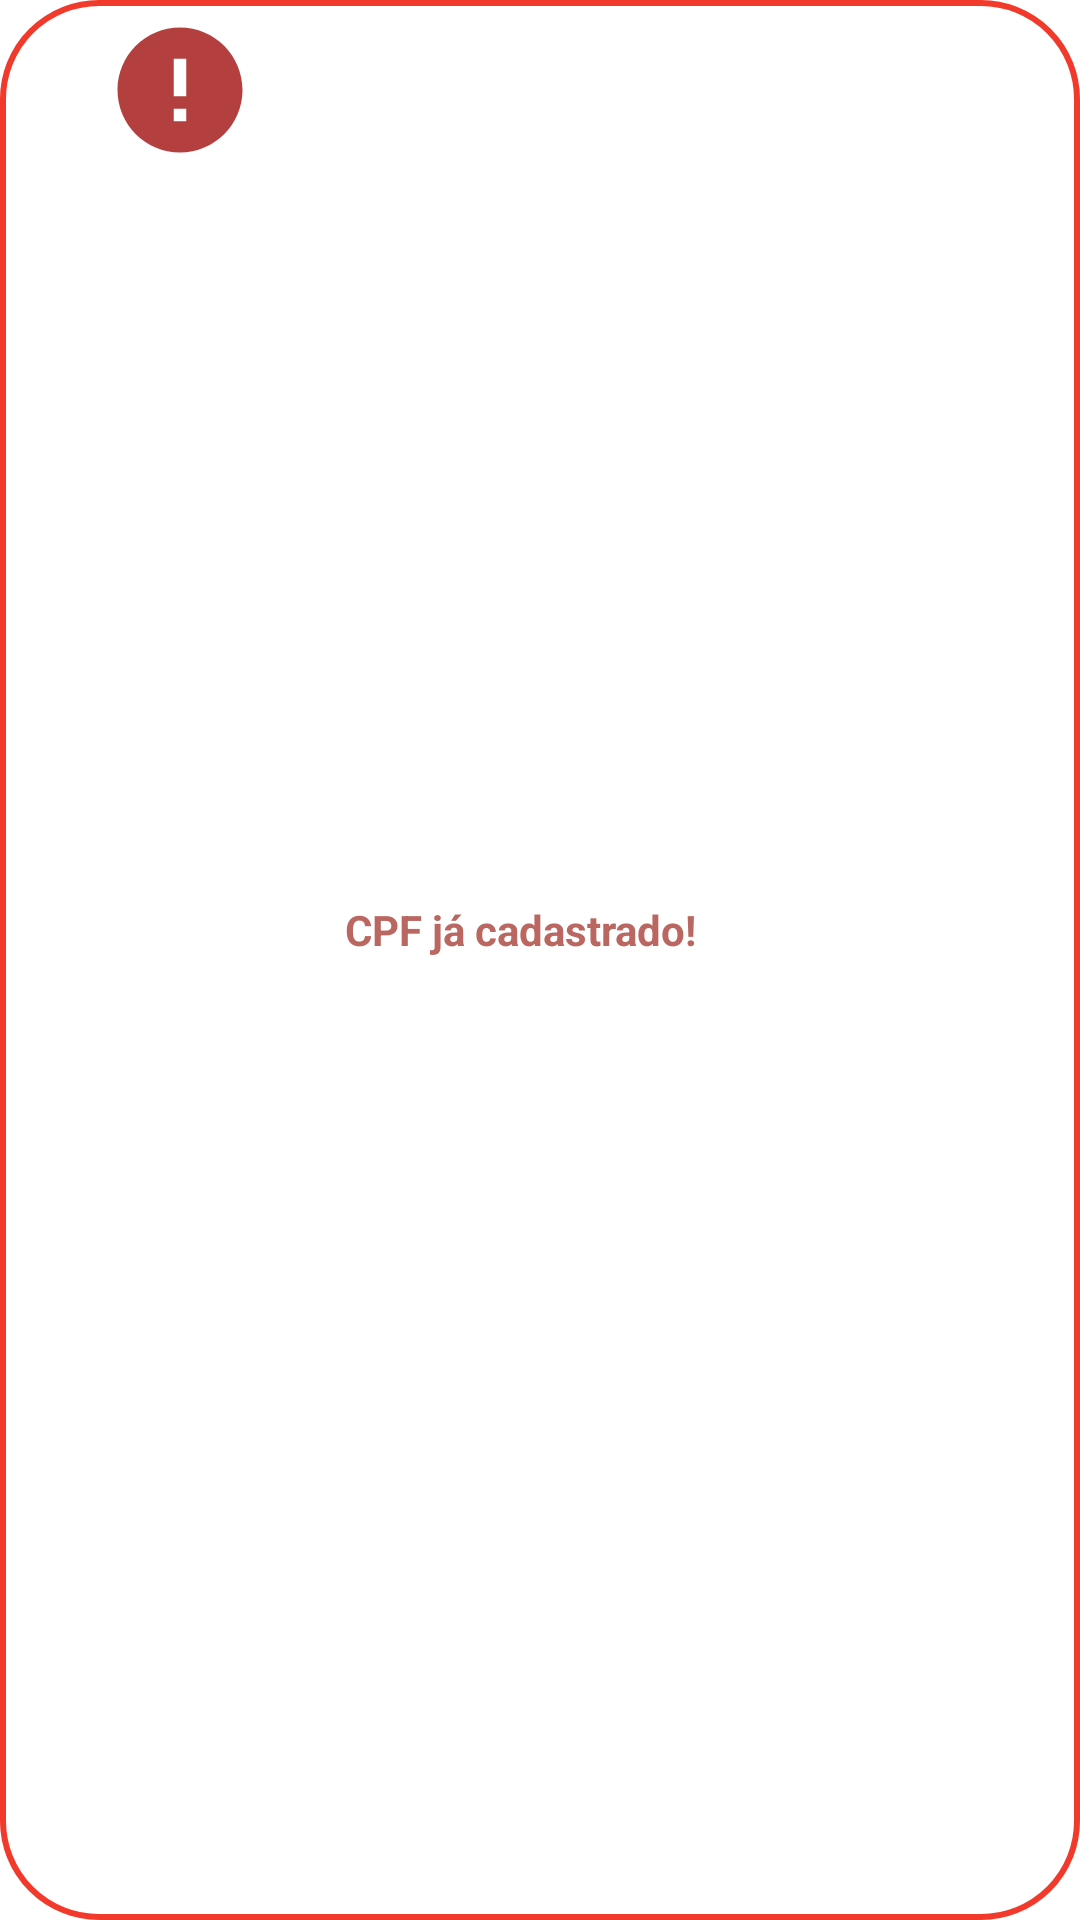

Screen size 1080 x 1920. Icon name, then its center in pixels as (x,y):
erro: (180,90)
